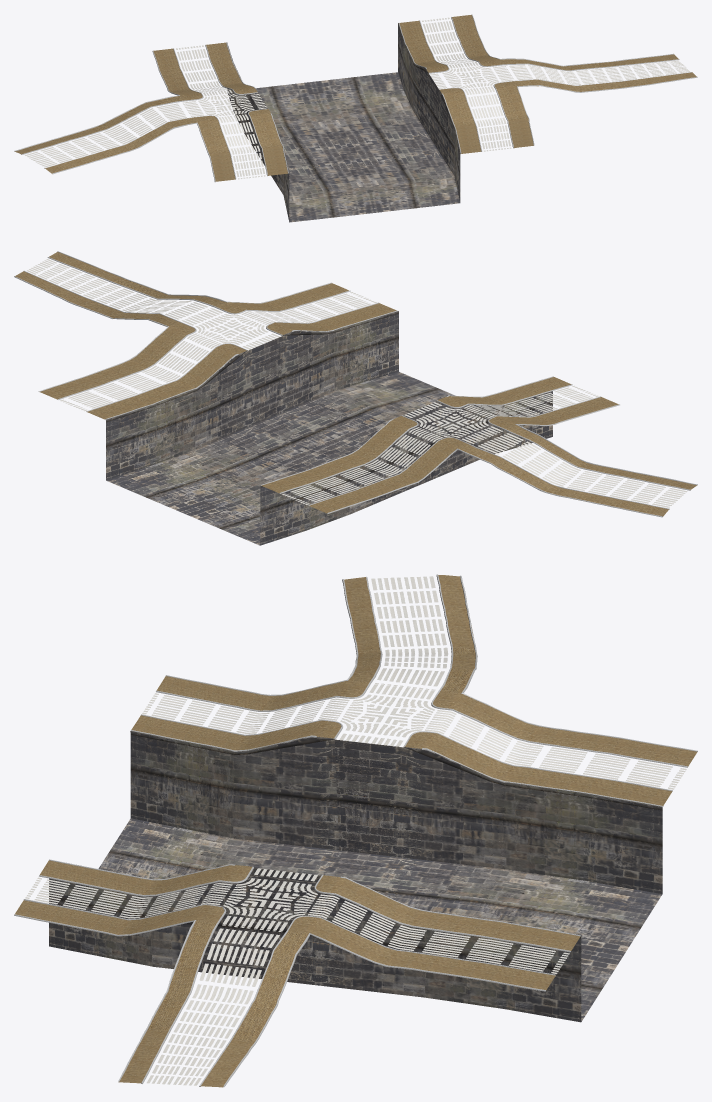
File: CanaleSecond.fbx
3 views of the same model, one above another, from view 1: azimuth 30°, elevation 25°; view 2: azimuth 150°, elevation 25°; view 3: azimuth 270°, elevation 25° (orthographic). The views are drawn at different scales.
Visible parts, largest first — view 1: CanaleSecond.001; view 2: CanaleSecond.001; view 3: CanaleSecond.001.
Boxes of the visible parts, x1=… form: CanaleSecond.001: x1=14, y1=14, x2=697, y2=222; CanaleSecond.001: x1=14, y1=251, x2=697, y2=545; CanaleSecond.001: x1=14, y1=574, x2=697, y2=1087.
Bounding box in the file's own units: 12706 × 1285 × 7149.
